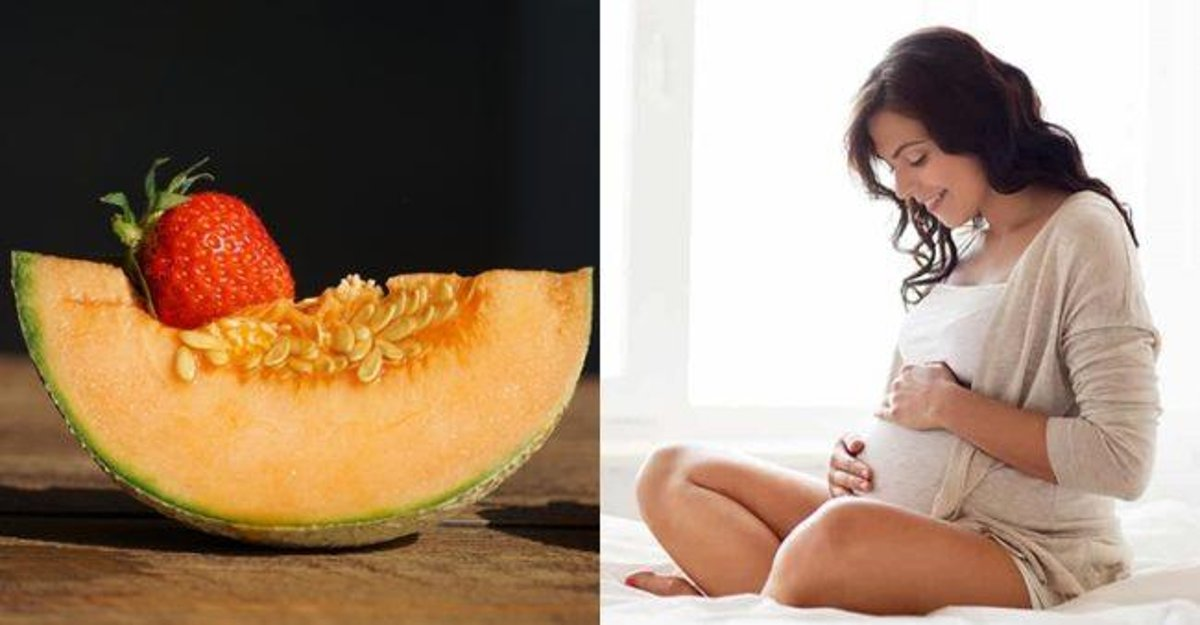Melon: (2, 248, 606, 562)
